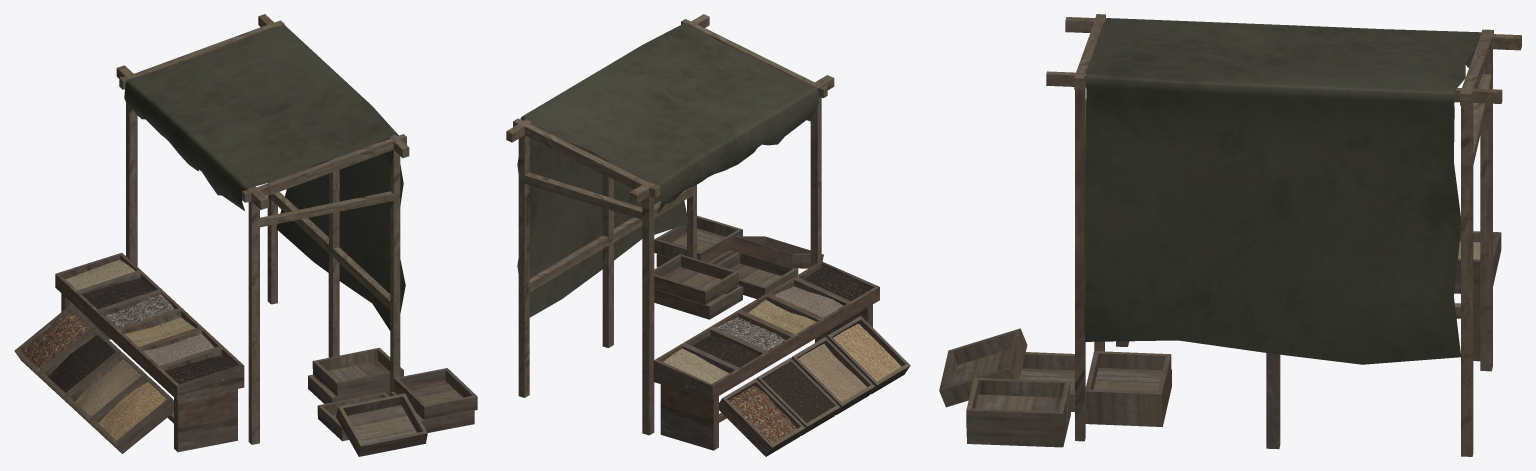
File: Shop_04.glb
The picture shows the model from 3 angles, left to right: view 1: azimuth 30°, elevation 25°; view 2: azimuth 150°, elevation 25°; view 3: azimuth 270°, elevation 25°; orthographic projection. The views are drawn at different scales.
Parts seen in each view (by area): view 1: SM_Shop_04; view 2: SM_Shop_04; view 3: SM_Shop_04.
Boxes of the visible parts, x1,y1,x2,y2 form: SM_Shop_04: (14, 14, 477, 456); SM_Shop_04: (506, 14, 910, 456); SM_Shop_04: (939, 14, 1521, 456).
Bounding box in the file's own units: 3.33 × 2.99 × 4.3.
Materials: 5 (5 with a texture image).
